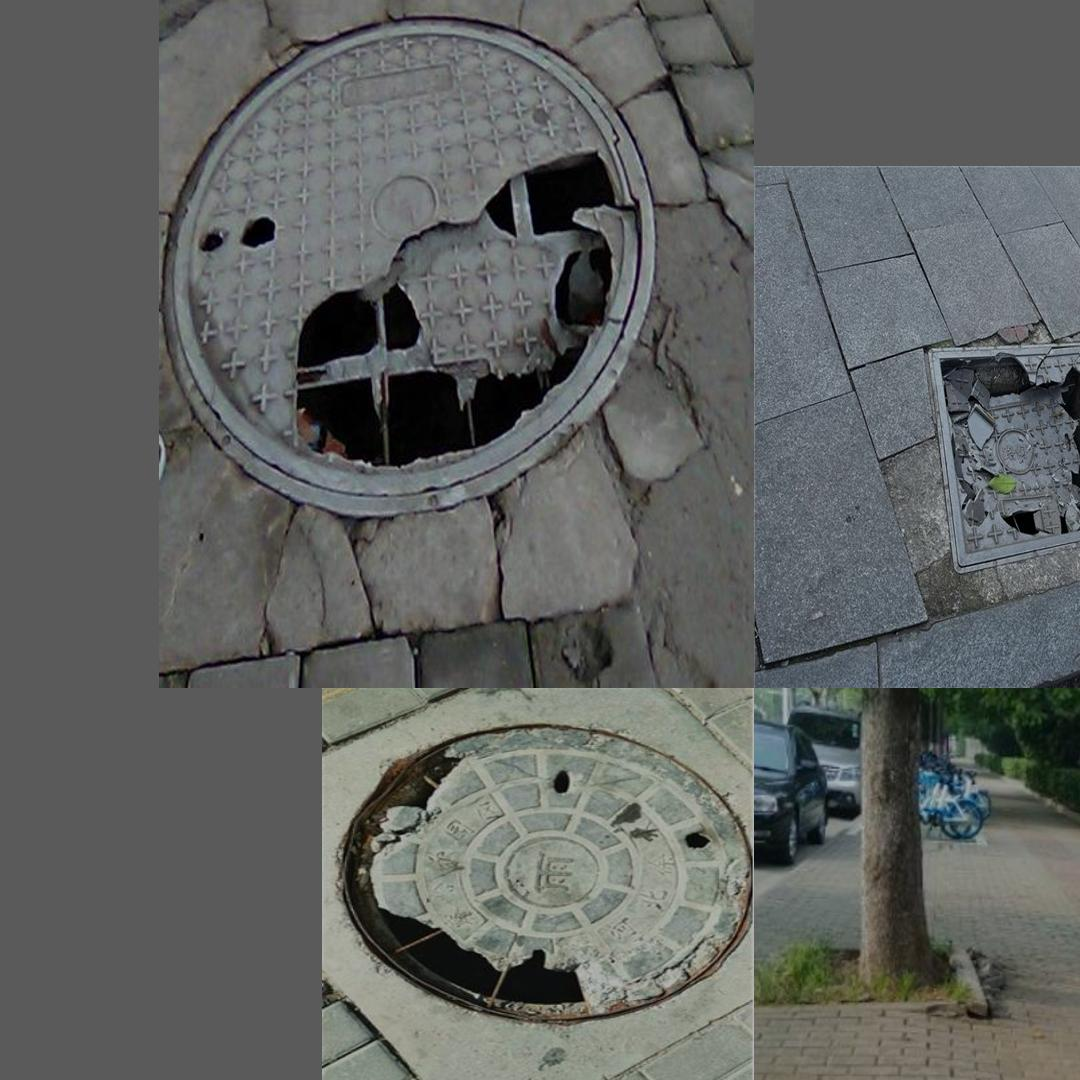broke: (172, 0, 681, 598), (339, 716, 748, 1017), (909, 325, 1080, 584)
